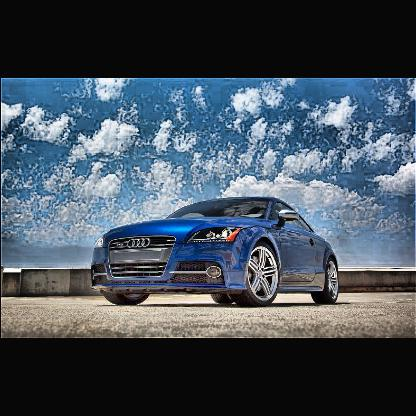Audi TTS Coupe 2012: (92, 198, 341, 306)
